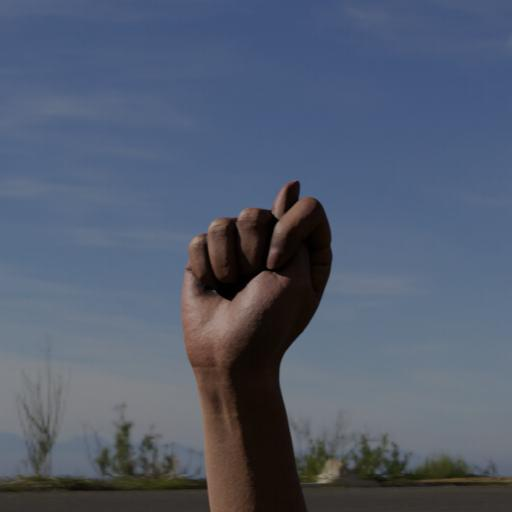T: (175, 177, 336, 368)
